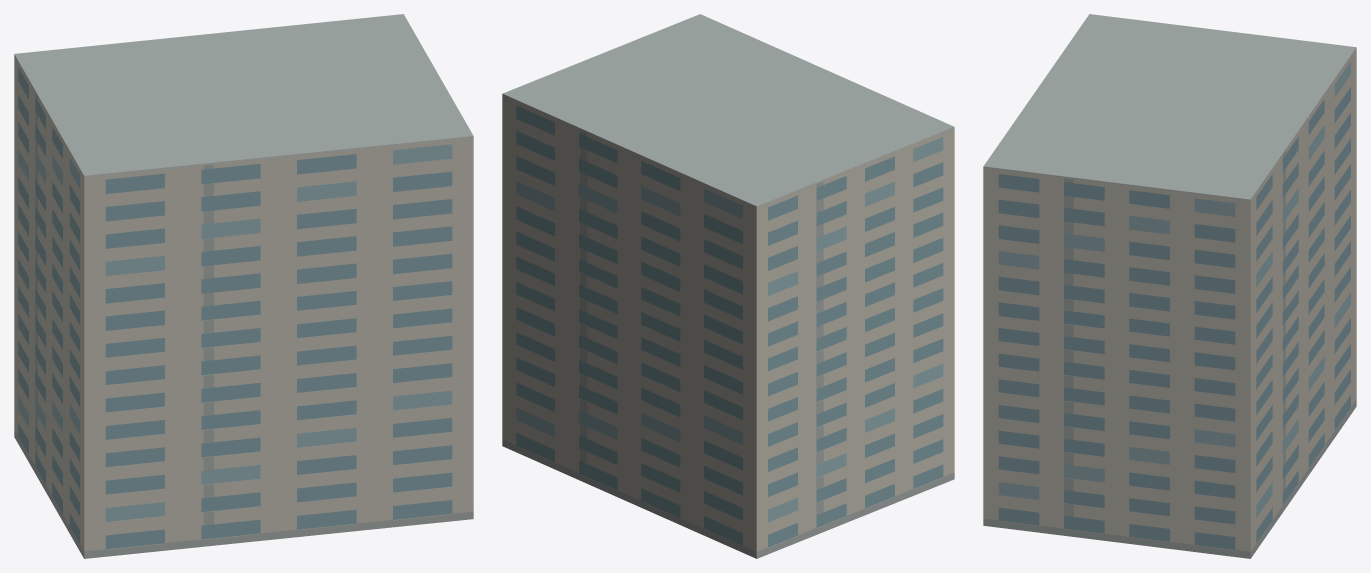
Rendered from residential-51c0c241-8d0f-4faf-b5e9-a0c1fb51c397.glb.
3 renders of one model, left to right at view 1: azimuth 30°, elevation 25°; view 2: azimuth 150°, elevation 25°; view 3: azimuth 270°, elevation 25°, orthographic. The views are drawn at different scales.
Parts seen in each view (by area): view 1: residential-51c0c241-8d0f-4faf-b5e9-a0c1fb51c397.tmp; view 2: residential-51c0c241-8d0f-4faf-b5e9-a0c1fb51c397.tmp; view 3: residential-51c0c241-8d0f-4faf-b5e9-a0c1fb51c397.tmp.
Boxes of the visible parts, x1=… form: residential-51c0c241-8d0f-4faf-b5e9-a0c1fb51c397.tmp: x1=14, y1=14, x2=473, y2=558; residential-51c0c241-8d0f-4faf-b5e9-a0c1fb51c397.tmp: x1=502, y1=14, x2=954, y2=558; residential-51c0c241-8d0f-4faf-b5e9-a0c1fb51c397.tmp: x1=983, y1=14, x2=1356, y2=558.
Size of the model in its own units: 52.06 by 47 by 44.24.
